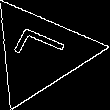L_SE: (8, 27, 73, 77)
